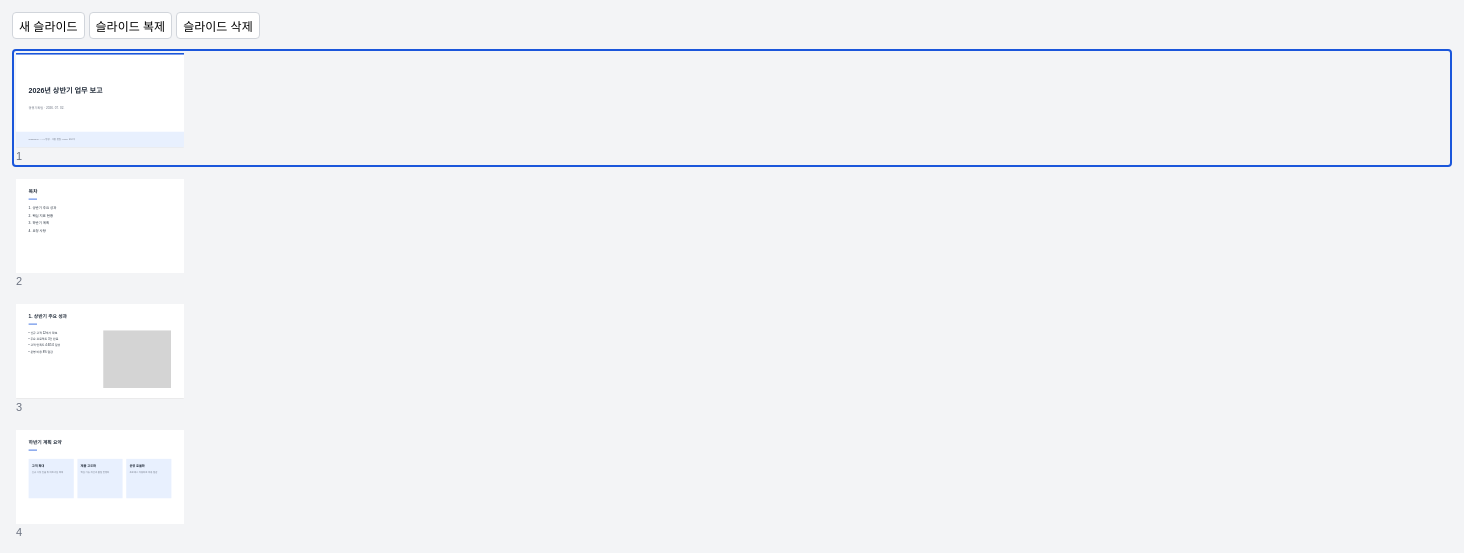
Test: 레이아웃 팝오버는 빈 장을 포함해 4종을 보여준다
Click the button "새 슬라이드": click(48, 26) [12,12,84,39]
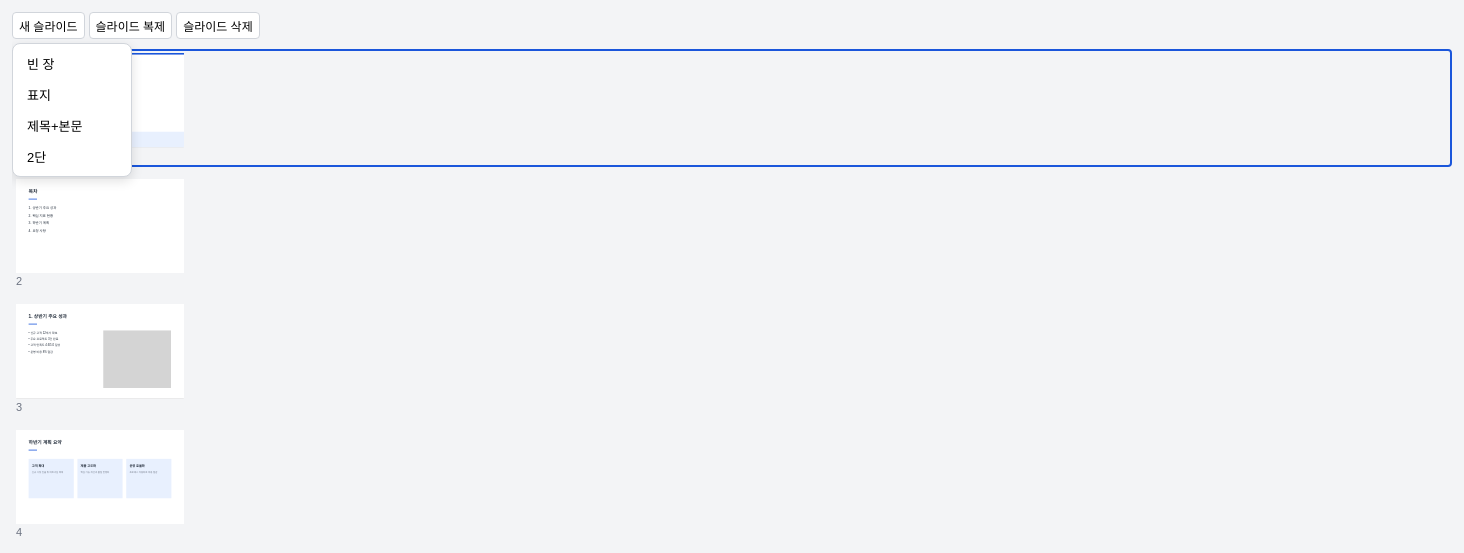
Expected: the menu items read "빈 장", "표지", "제목+본문", "2단", in this order, [17,48,127,79]; [17,79,127,110]; [17,110,127,141]; [17,141,127,172]
